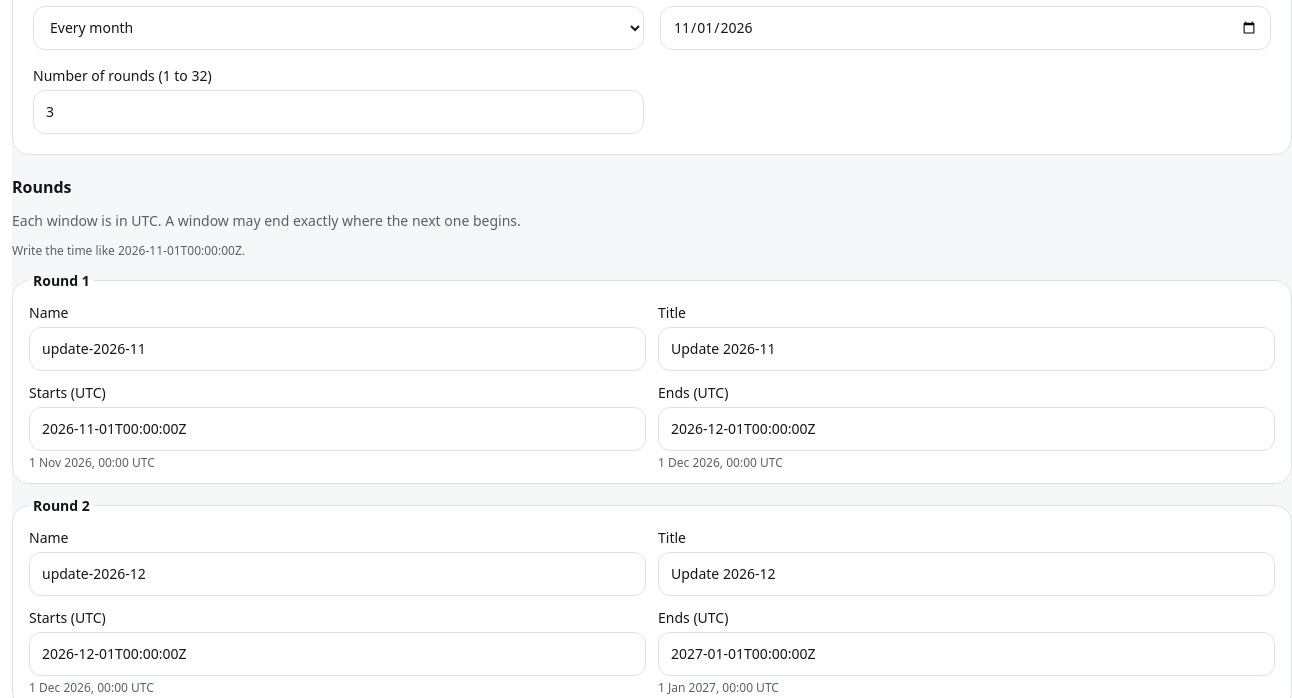
Test case: New series › after editing a row, changing the count asks inline before regenerating; declining keeps the edit
(page scrolled)
Replace the text in the 1st field labelled "Title" with "My own title" at point(966, 348), box [658,326,1275,370]
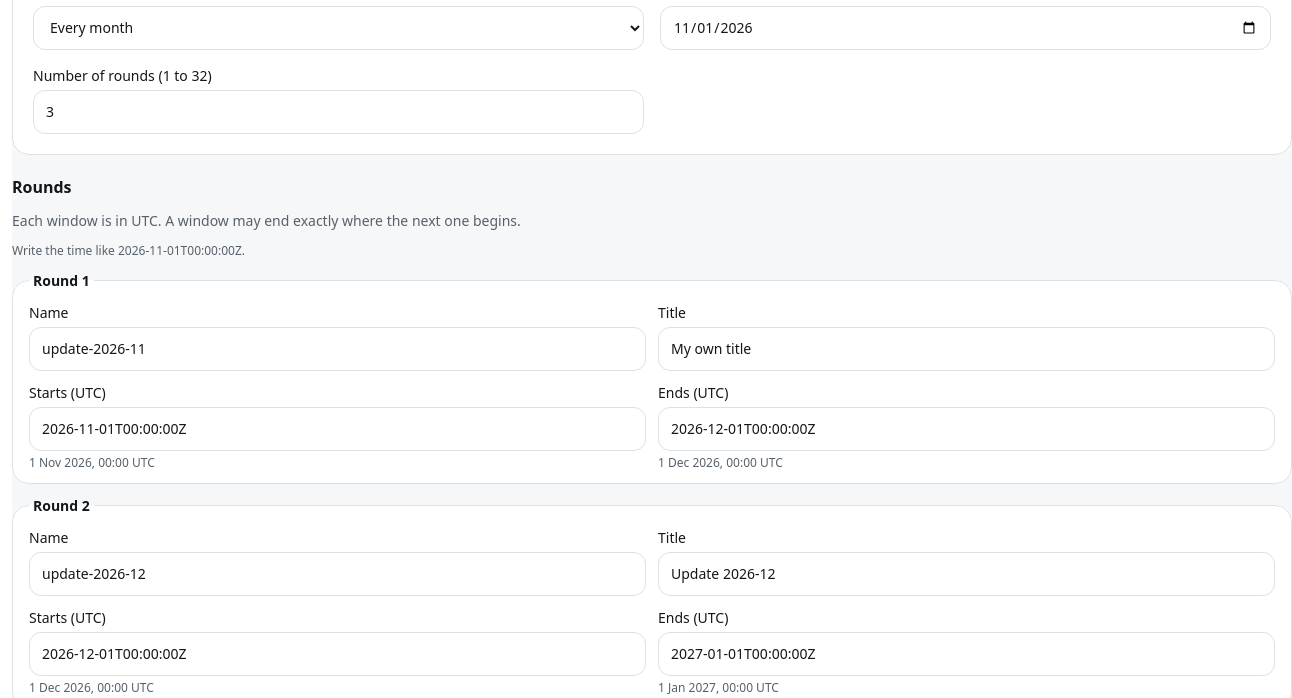
Replace the text in the number field labelled "Number of rounds (1 to 32)" with "4" at point(338, 112), box [33,90,644,134]
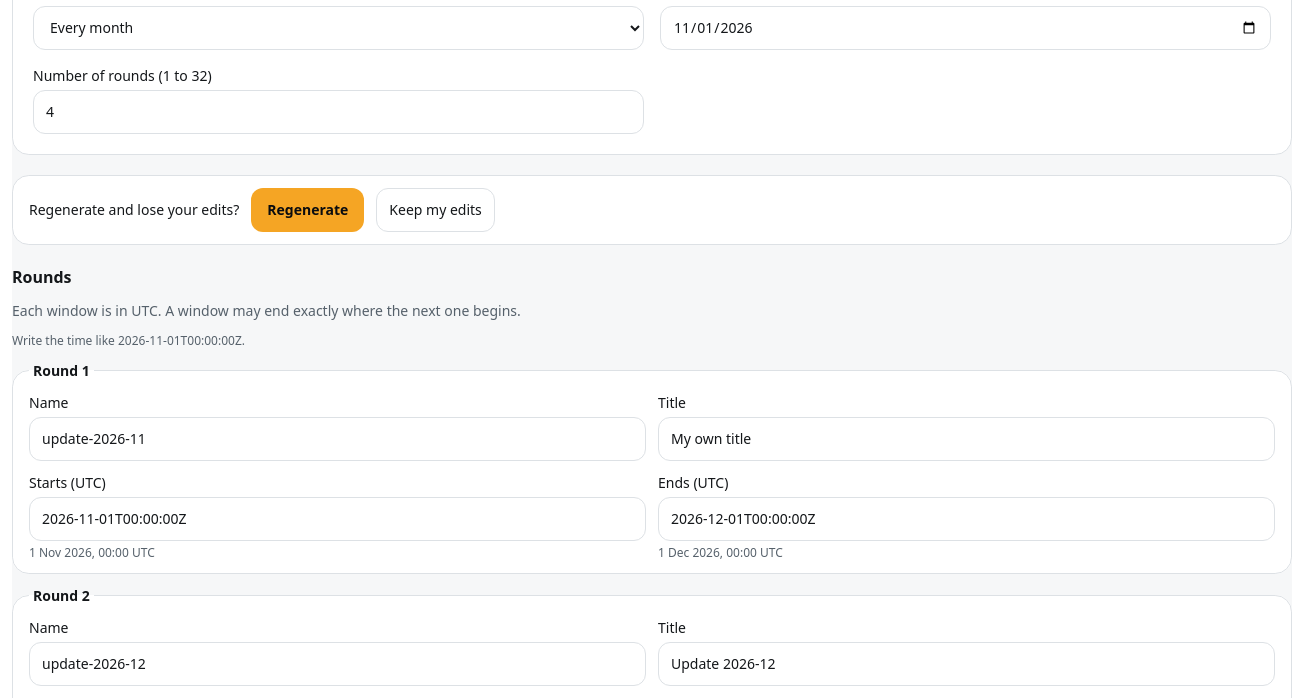
Now the text "Regenerate and lose your edits?" is shown, box [29,200,239,220]
Click the button "Keep my edits" at point(436, 210), box [376,188,495,232]
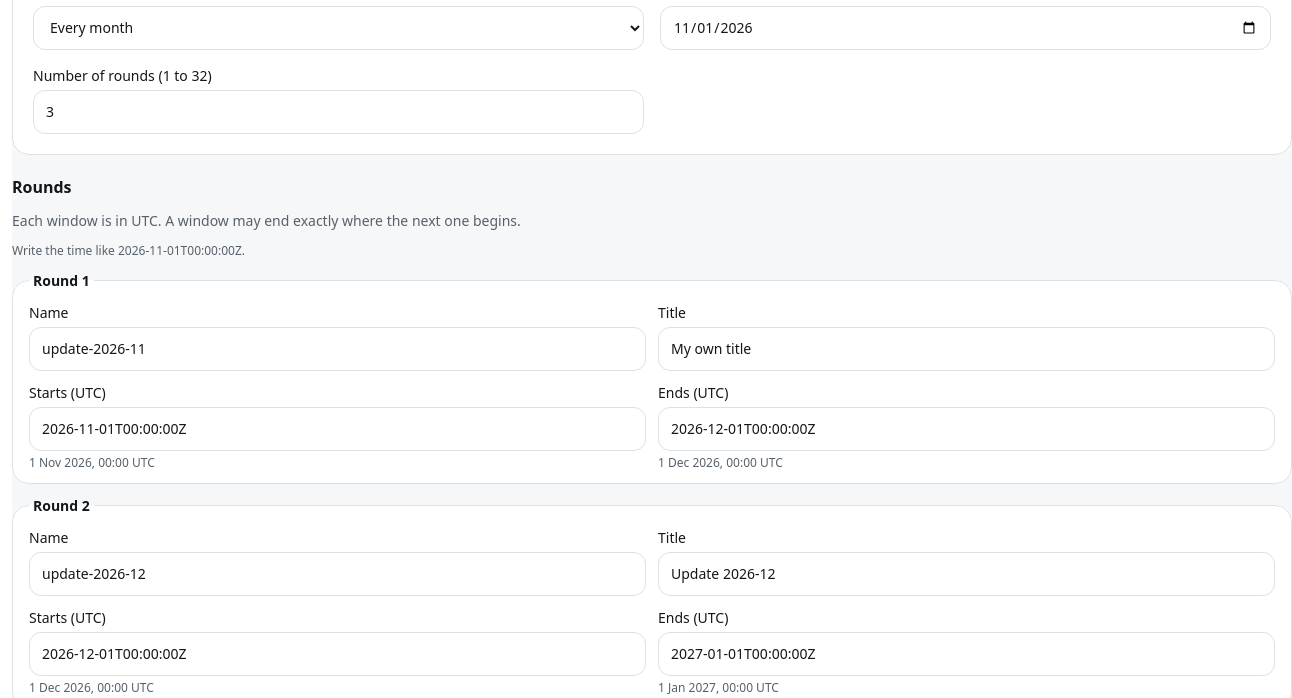
Now the text "Regenerate and lose your edits?" is gone
Now the number field labelled "Number of rounds (1 to 32)" holds "3"
Replace the text in the number field labelled "Number of rounds (1 to 32)" with "4" at point(338, 112), box [33,90,644,134]
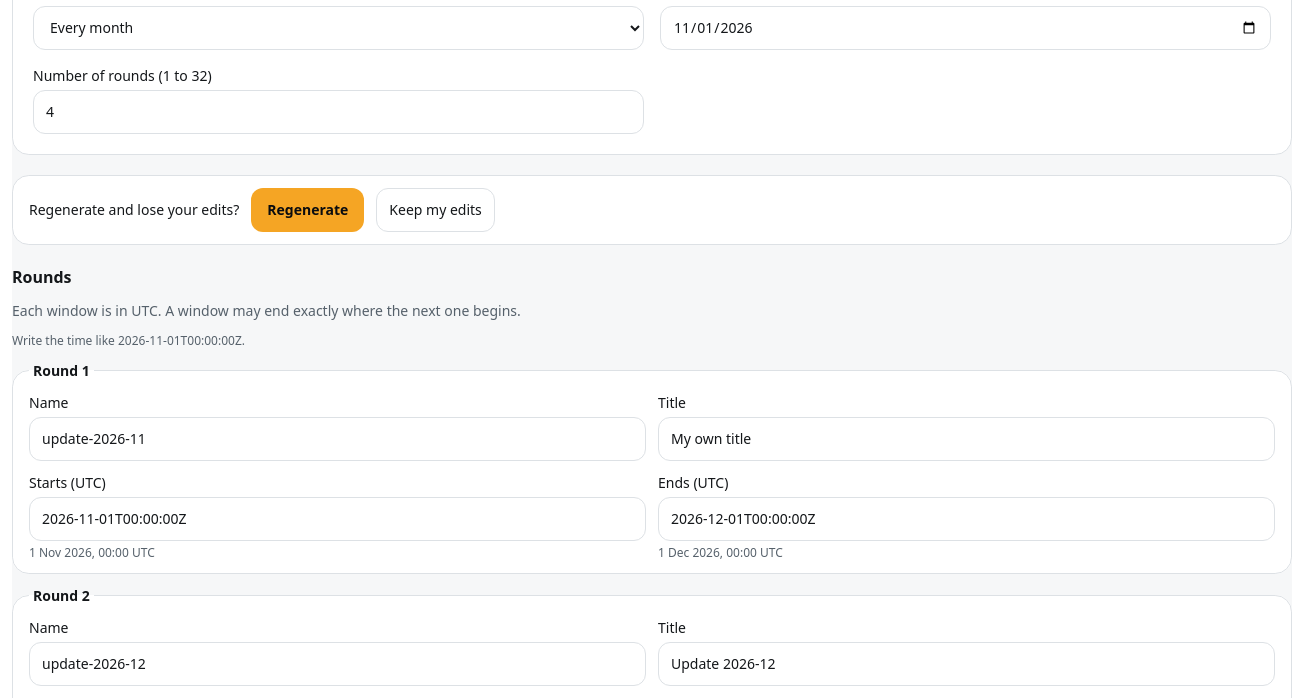
Click the button "Regenerate" at point(308, 210), box [251,188,364,232]
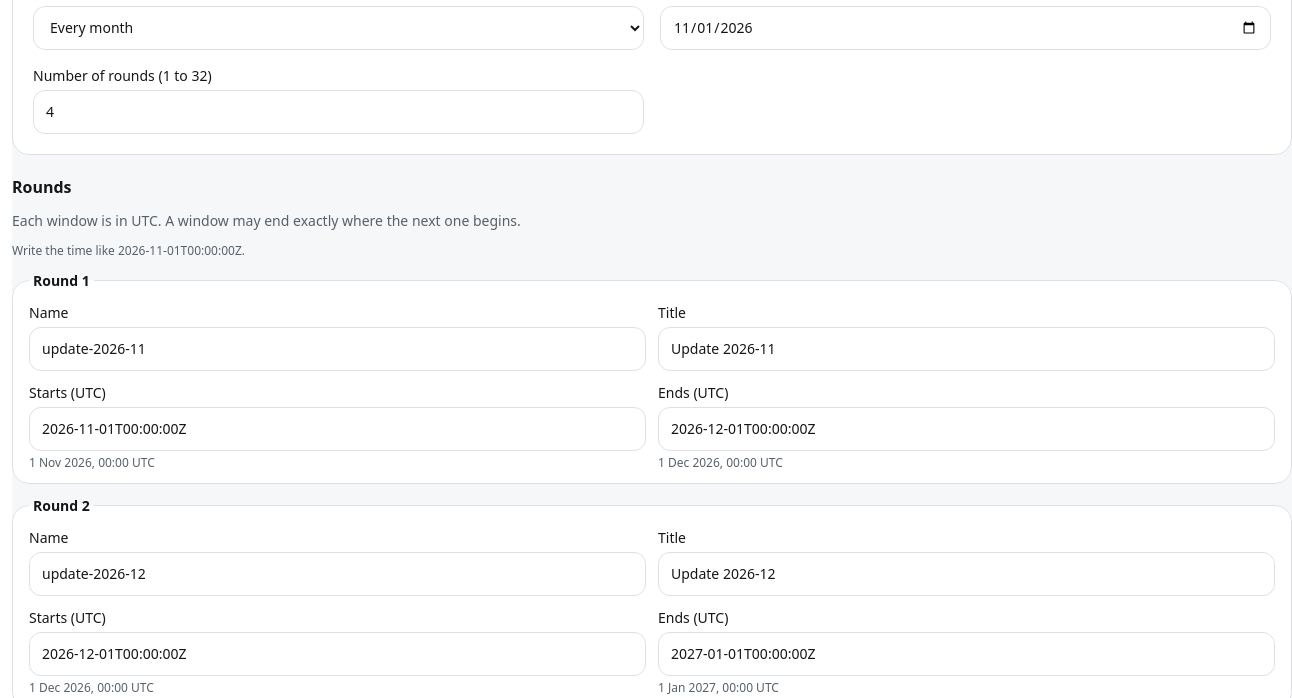
Now the 1st field labelled "Title" holds "Update 2026-11", box [658,326,1275,370]
